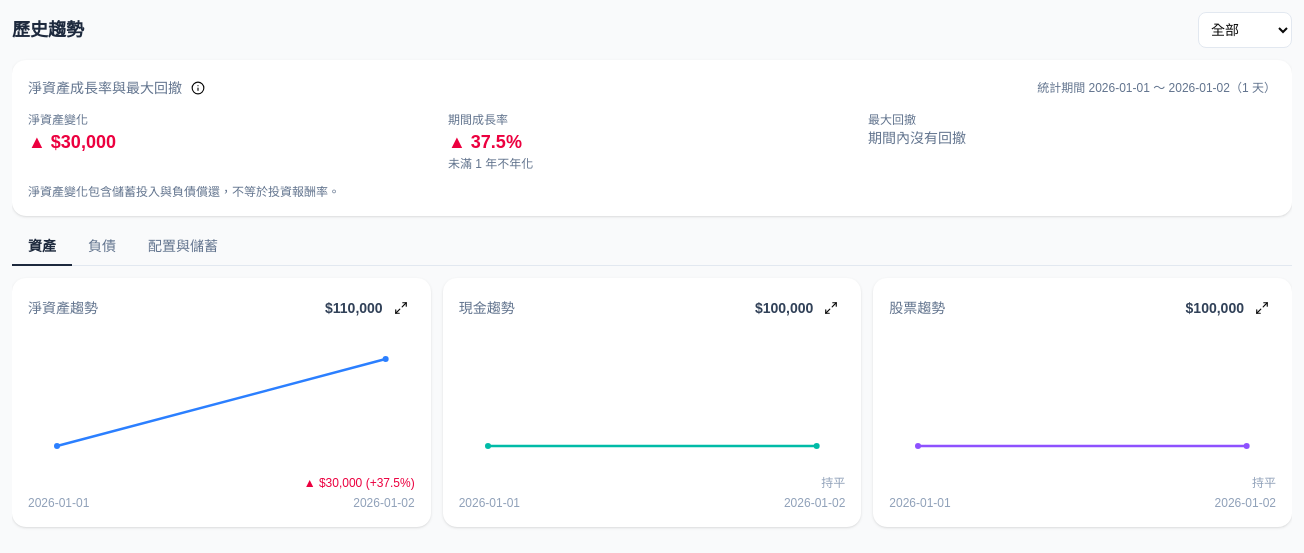
Test: TrendSection › 儲蓄率／每月應還款／資產配置趨勢 › 儲蓄率為負（入不敷出）時，最新值顯示負的百分比
Press the mouse on the tab "配置與儲蓄" at point(183, 247), box [132,228,234,266]
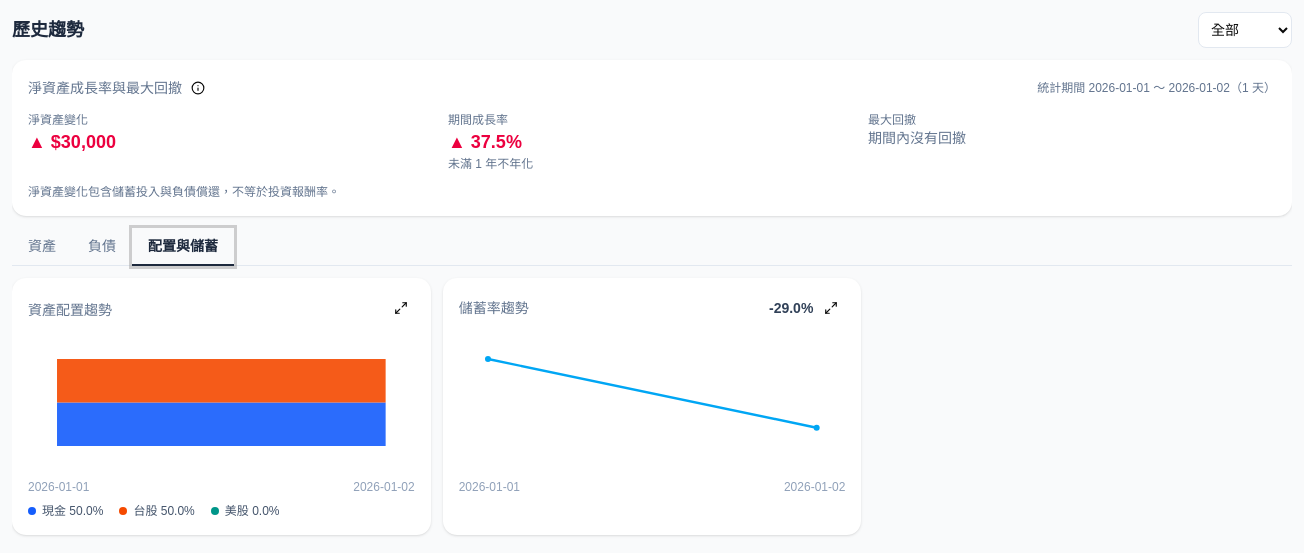
Now the text "-29.0%" is shown, box [769,298,813,318]
